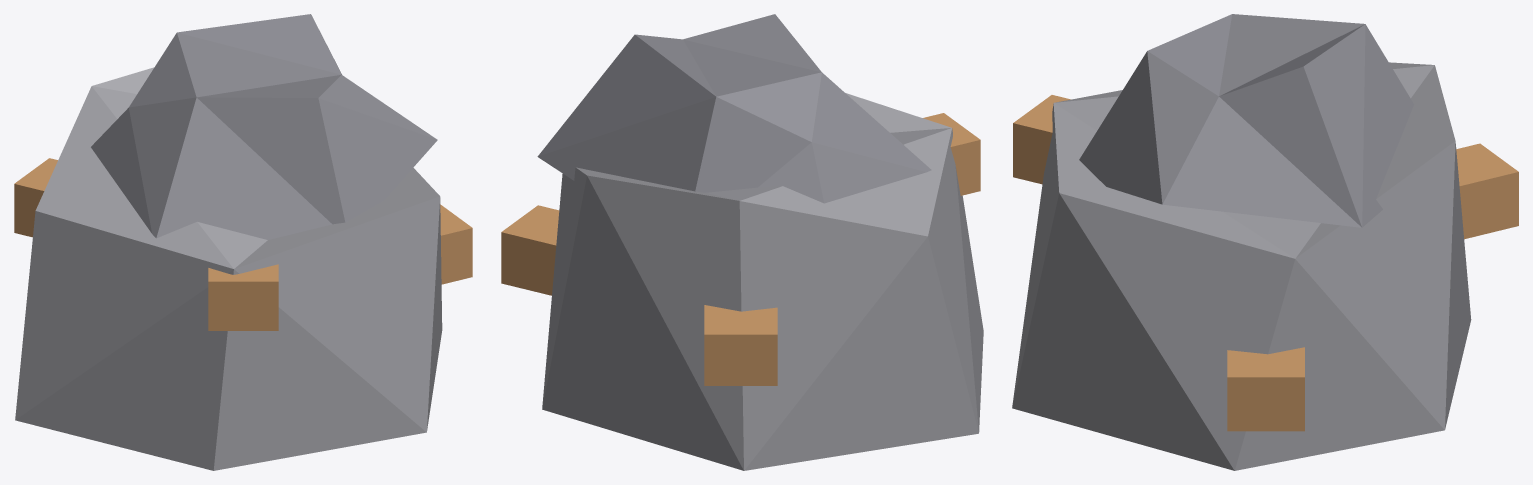
File: rock.glb
3 renders of one model, left to right at view 1: azimuth 30°, elevation 25°; view 2: azimuth 150°, elevation 25°; view 3: azimuth 270°, elevation 25°, orthographic. The views are drawn at different scales.
Parts seen in each view (by area): view 1: Rock; view 2: Rock; view 3: Rock.
Boxes of the visible parts, x1=… form: Rock: x1=14, y1=14, x2=472, y2=470; Rock: x1=501, y1=14, x2=983, y2=470; Rock: x1=1012, y1=14, x2=1518, y2=470.
Bounding box in the file's own units: 0.9377 × 0.6476 × 0.8485.
